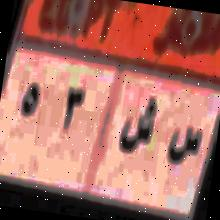3: (57, 78, 91, 148)
5: (16, 72, 45, 132)
seen: (162, 116, 206, 184)
sheen: (116, 89, 159, 168)
